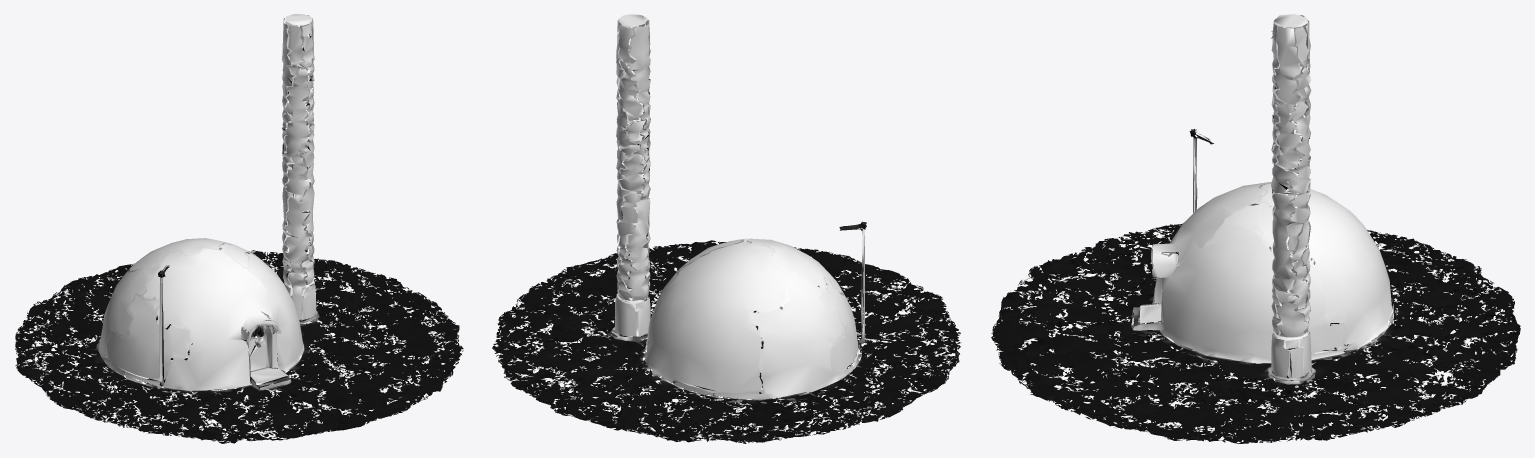
File: lahmu-homestead.glb
The picture shows the model from 3 angles, left to right: view 1: azimuth 30°, elevation 25°; view 2: azimuth 150°, elevation 25°; view 3: azimuth 270°, elevation 25°; orthographic projection. The views are drawn at different scales.
Parts seen in each view (by area): view 1: low; view 2: low; view 3: low.
Part boxes in pixels (x1=…): low: x1=15, y1=14, x2=463, y2=443; low: x1=492, y1=14, x2=961, y2=443; low: x1=991, y1=14, x2=1520, y2=443.
Size of the model in its own units: 1 by 0.7429 by 0.9977.
1 material, 1 textured.
